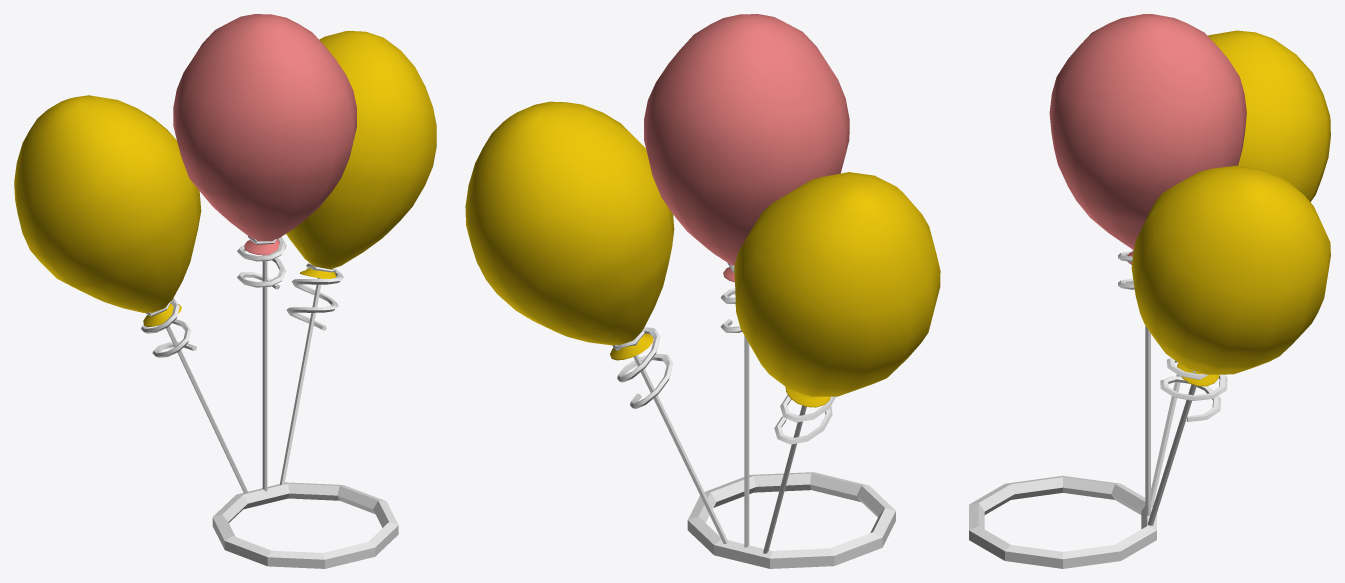
The model's file is Balloon_01.fbx.
The picture shows the model from 3 angles, left to right: view 1: azimuth 30°, elevation 25°; view 2: azimuth 150°, elevation 25°; view 3: azimuth 270°, elevation 25°; orthographic projection. The views are drawn at different scales.
Parts seen in each view (by area): view 1: Balloon_01 (×3), Belt, Line_01 (×3), Line_02 (×3); view 2: Balloon_01 (×3), Belt, Line_02 (×3), Line_01 (×2); view 3: Balloon_01 (×3), Belt, Line_02 (×3), Line_01.
Part boxes in pixels (x1=…): Balloon_01 (×3): x1=14, y1=14, x2=436, y2=326; Belt: x1=212, y1=482, x2=398, y2=568; Line_01 (×3): x1=141, y1=236, x2=343, y2=357; Line_02 (×3): x1=166, y1=261, x2=321, y2=493; Balloon_01 (×3): x1=465, y1=14, x2=940, y2=407; Belt: x1=687, y1=472, x2=895, y2=568; Line_02 (×3): x1=633, y1=336, x2=806, y2=553; Line_01 (×2): x1=612, y1=327, x2=835, y2=444; Balloon_01 (×3): x1=1049, y1=14, x2=1330, y2=386; Belt: x1=969, y1=476, x2=1156, y2=568; Line_02 (×3): x1=1145, y1=325, x2=1196, y2=525; Line_01: x1=1160, y1=358, x2=1227, y2=421.
Size of the model in its own units: 7.96 by 9.25 by 5.94.
